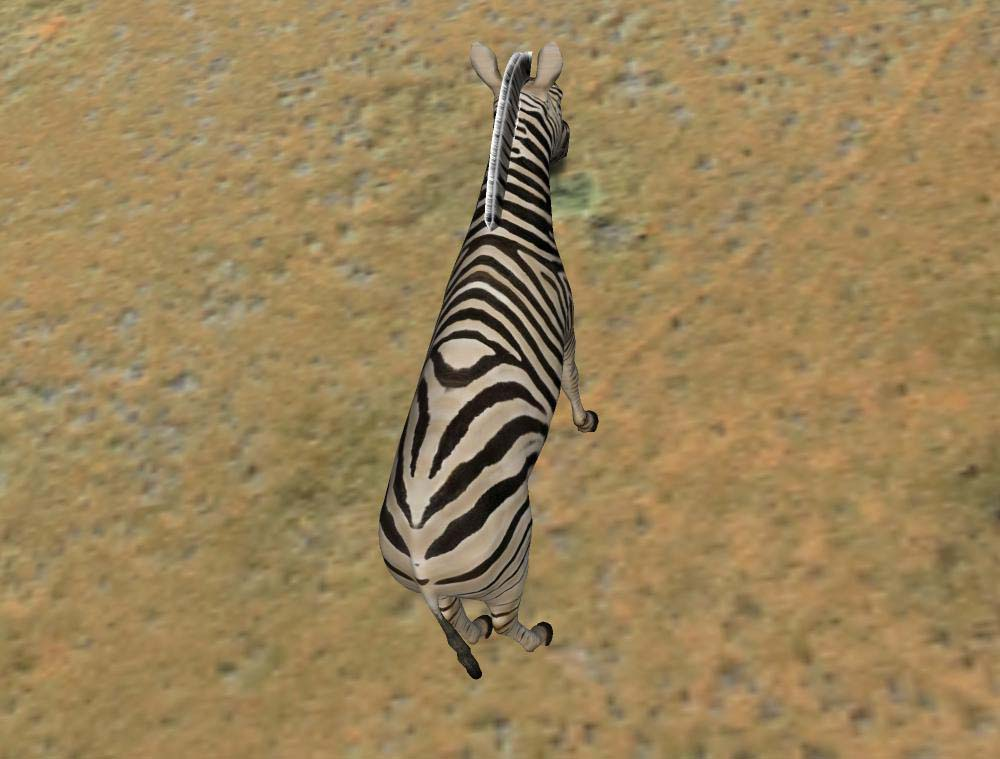zebra: (371, 35, 602, 696)
